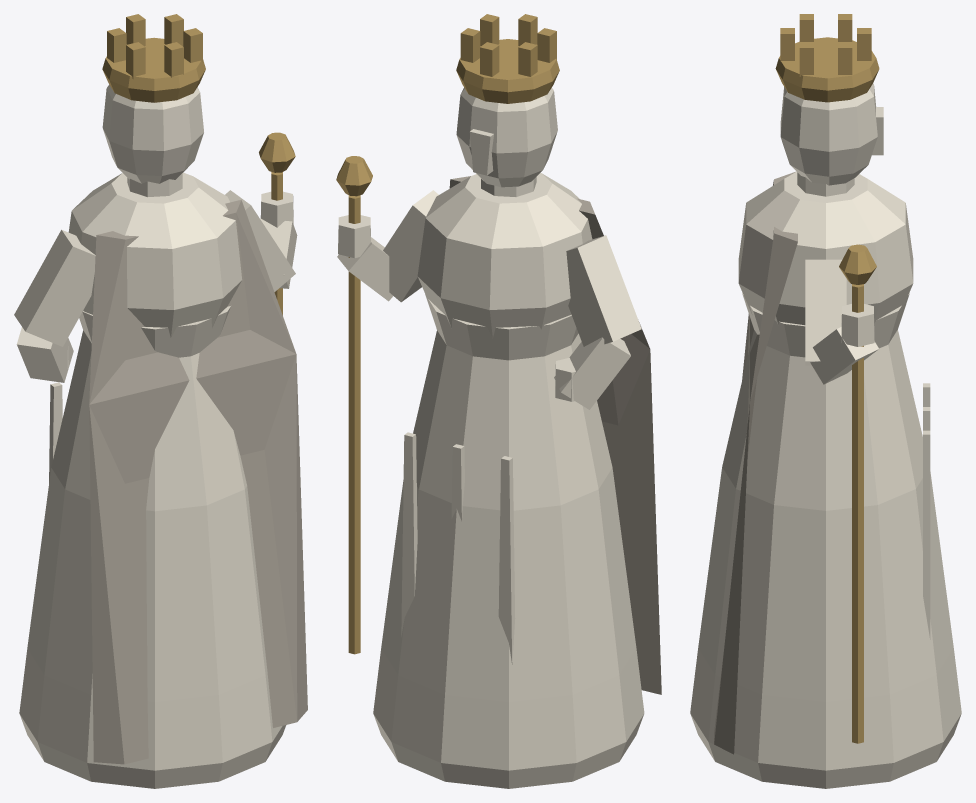
The model's file is VIC_B13_HALL_FIGURE_Roblox.fbx.
3 views of the same model, side by side, from view 1: azimuth 30°, elevation 25°; view 2: azimuth 150°, elevation 25°; view 3: azimuth 270°, elevation 25° (orthographic).
Visible parts, largest first — view 1: VIC_B13_HALL_FIGURE__Ivory, VIC_B13_HALL_FIGURE__Stone, VIC_B13_HALL_FIGURE__Brass; view 2: VIC_B13_HALL_FIGURE__Ivory, VIC_B13_HALL_FIGURE__Brass, VIC_B13_HALL_FIGURE__Stone; view 3: VIC_B13_HALL_FIGURE__Ivory, VIC_B13_HALL_FIGURE__Brass, VIC_B13_HALL_FIGURE__Stone.
Part boxes in pixels (x1,y1,x2,y2): VIC_B13_HALL_FIGURE__Ivory: (14, 85, 297, 788); VIC_B13_HALL_FIGURE__Stone: (89, 199, 307, 764); VIC_B13_HALL_FIGURE__Brass: (102, 14, 295, 315); VIC_B13_HALL_FIGURE__Ivory: (337, 87, 644, 788); VIC_B13_HALL_FIGURE__Brass: (336, 14, 559, 654); VIC_B13_HALL_FIGURE__Stone: (449, 176, 661, 694); VIC_B13_HALL_FIGURE__Ivory: (690, 83, 961, 788); VIC_B13_HALL_FIGURE__Brass: (775, 14, 879, 743); VIC_B13_HALL_FIGURE__Stone: (714, 171, 797, 754).
Bounding box in the file's own units: 4.17 × 9.72 × 3.4.
